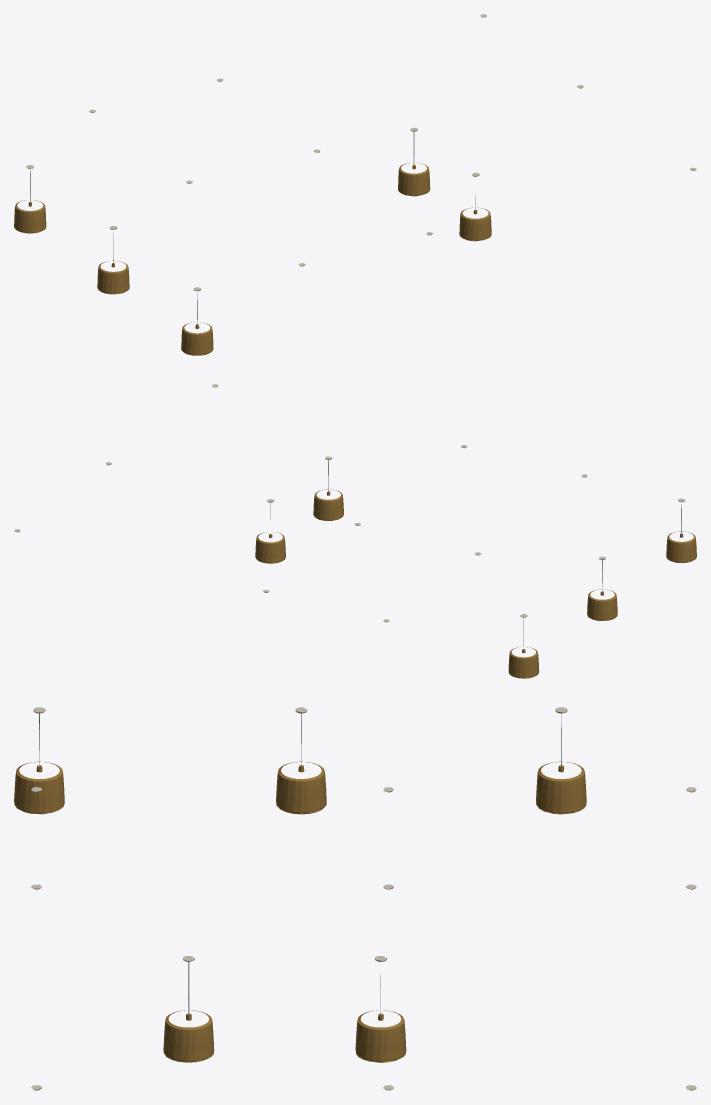
File: light.glb
3 renders of one model, top to bottom at view 1: azimuth 30°, elevation 25°; view 2: azimuth 150°, elevation 25°; view 3: azimuth 270°, elevation 25°, orthographic. The views are drawn at different scales.
Parts seen in each view (by area): view 1: Tianjin_light; view 2: Tianjin_light; view 3: Tianjin_light.
Boxes of the visible parts, x1=… form: Tianjin_light: x1=14, y1=14, x2=696, y2=355; Tianjin_light: x1=14, y1=384, x2=696, y2=678; Tianjin_light: x1=14, y1=707, x2=696, y2=1090.
Bounding box in the file's own units: 9.52 × 1.07 × 7.04.
